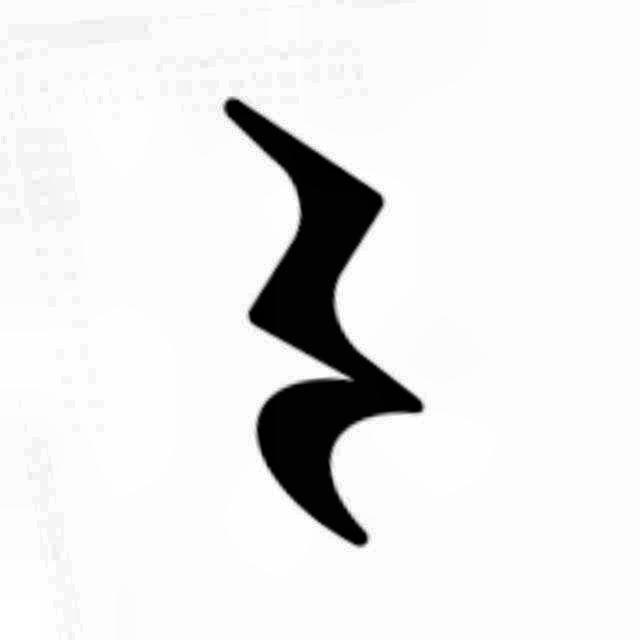Quarter-rest: (178, 85, 442, 573)
